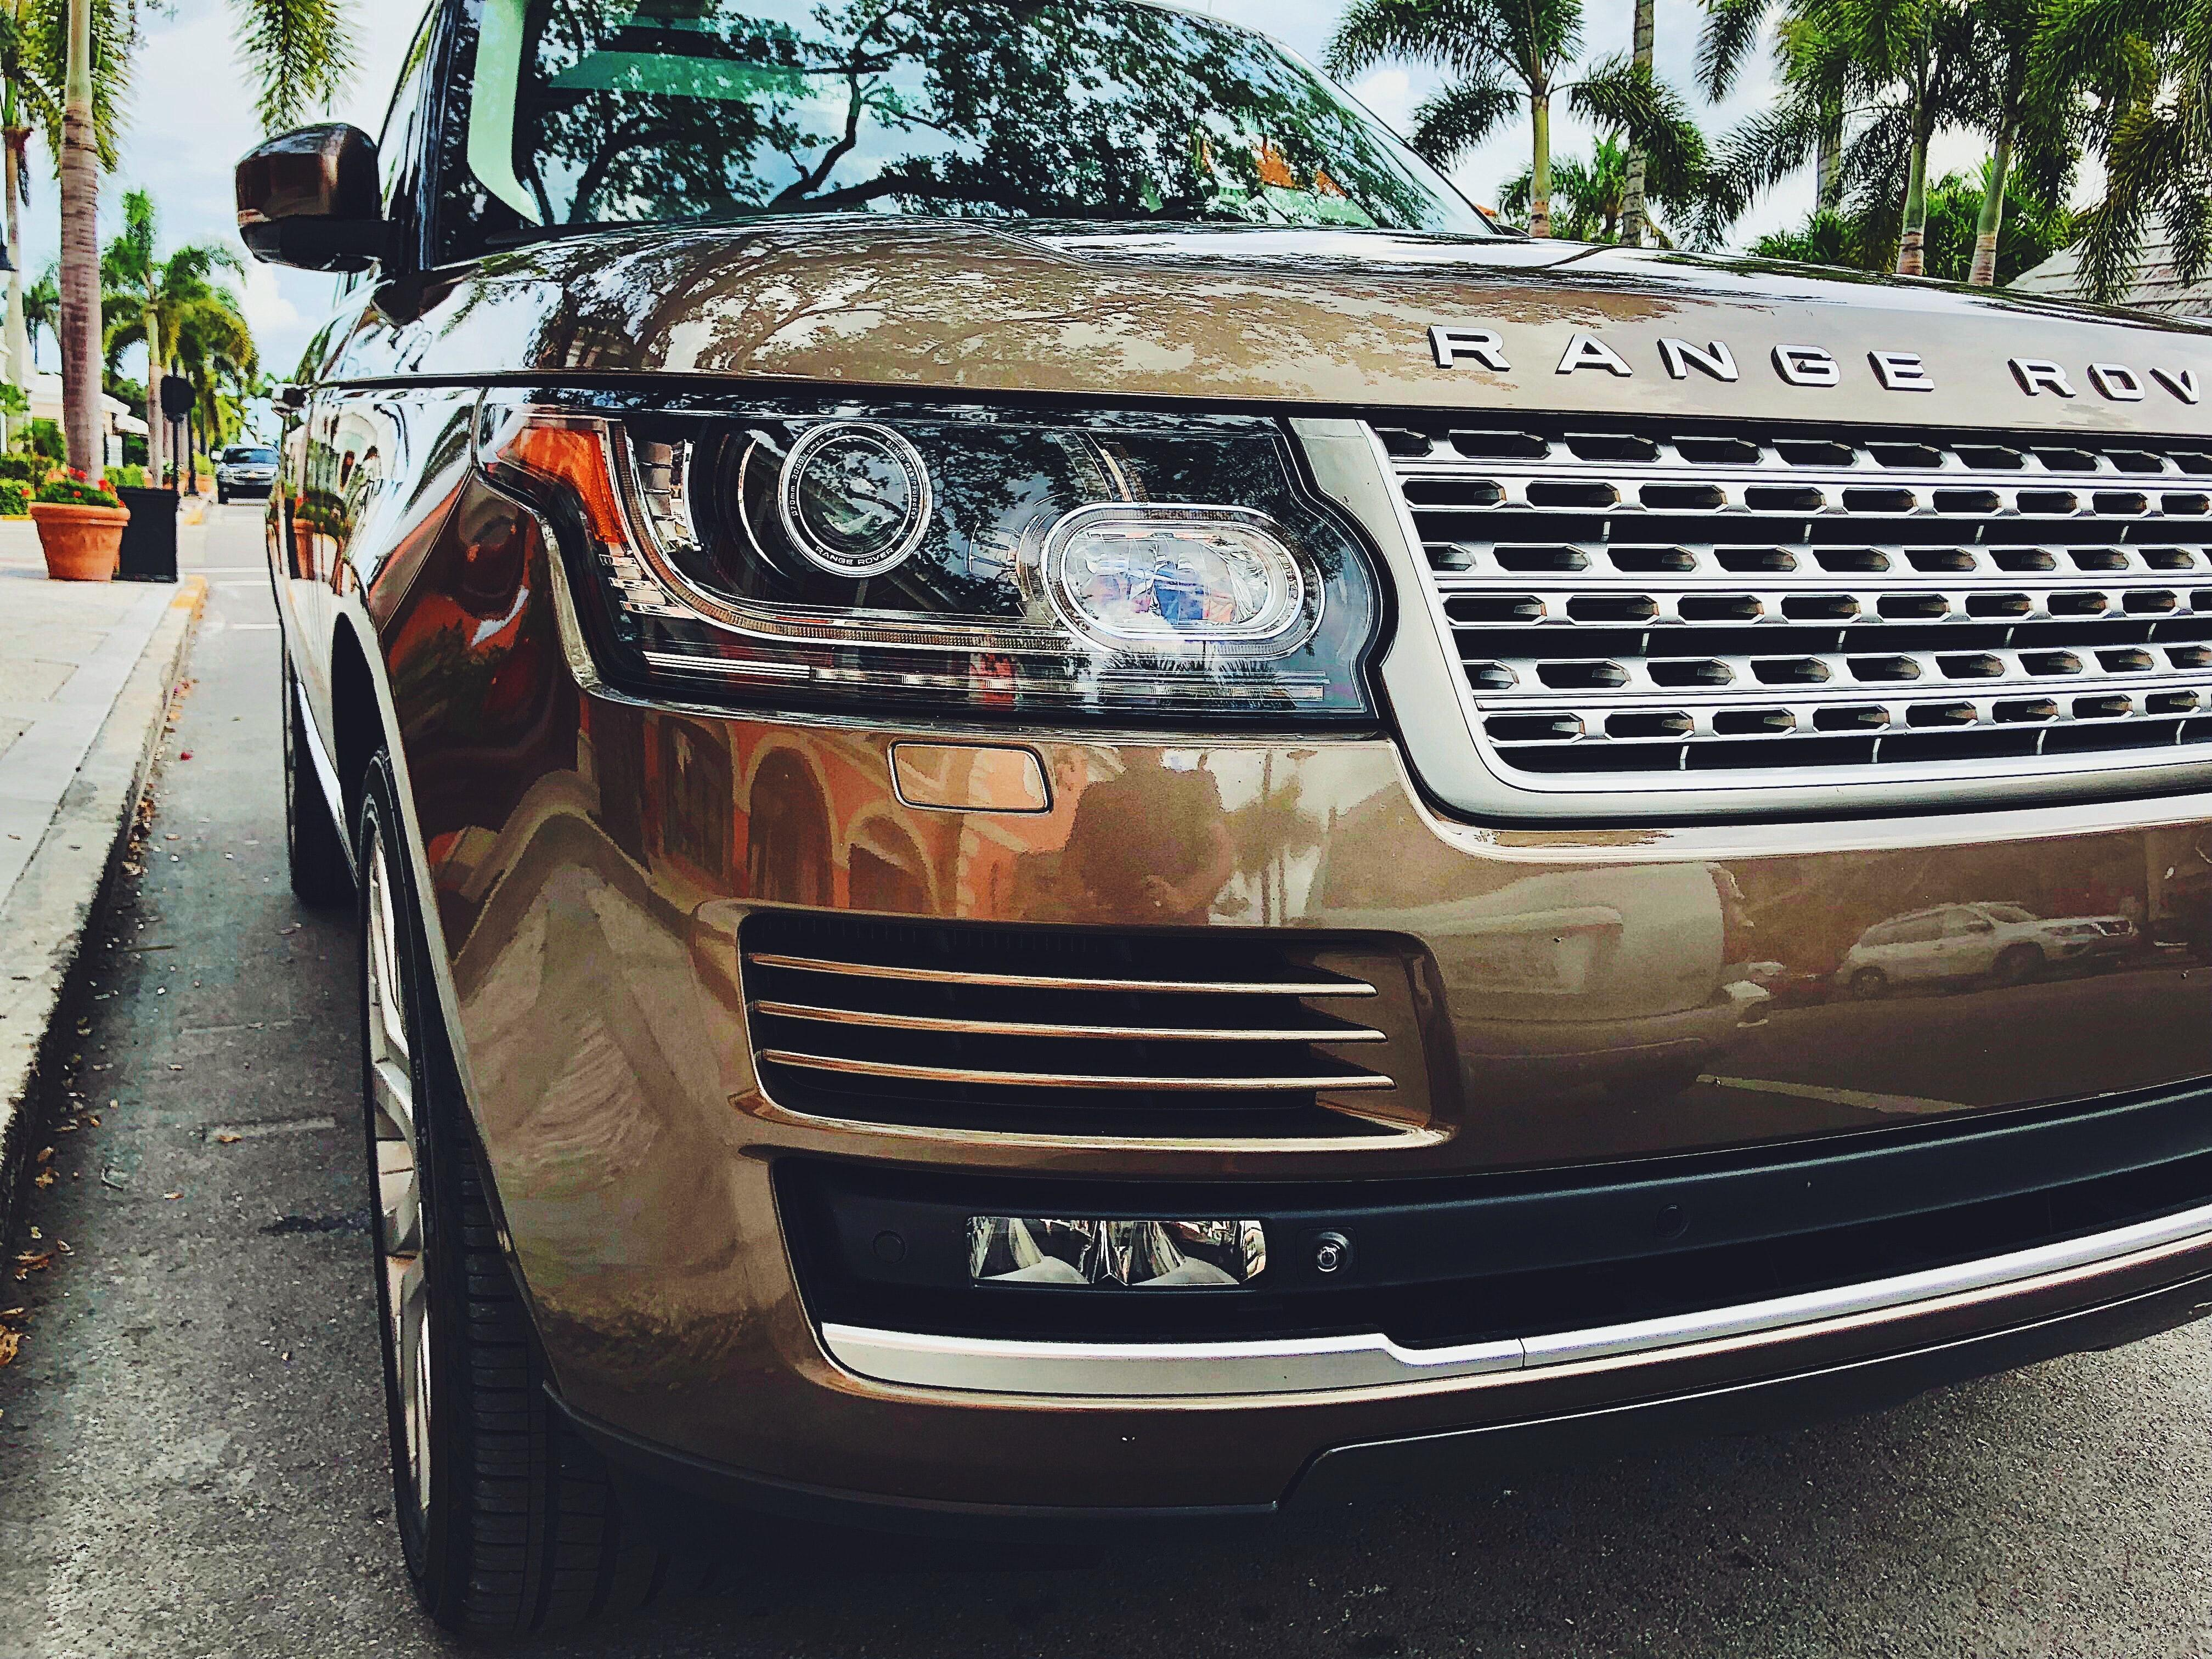range rover: (1400, 291, 2212, 443)
